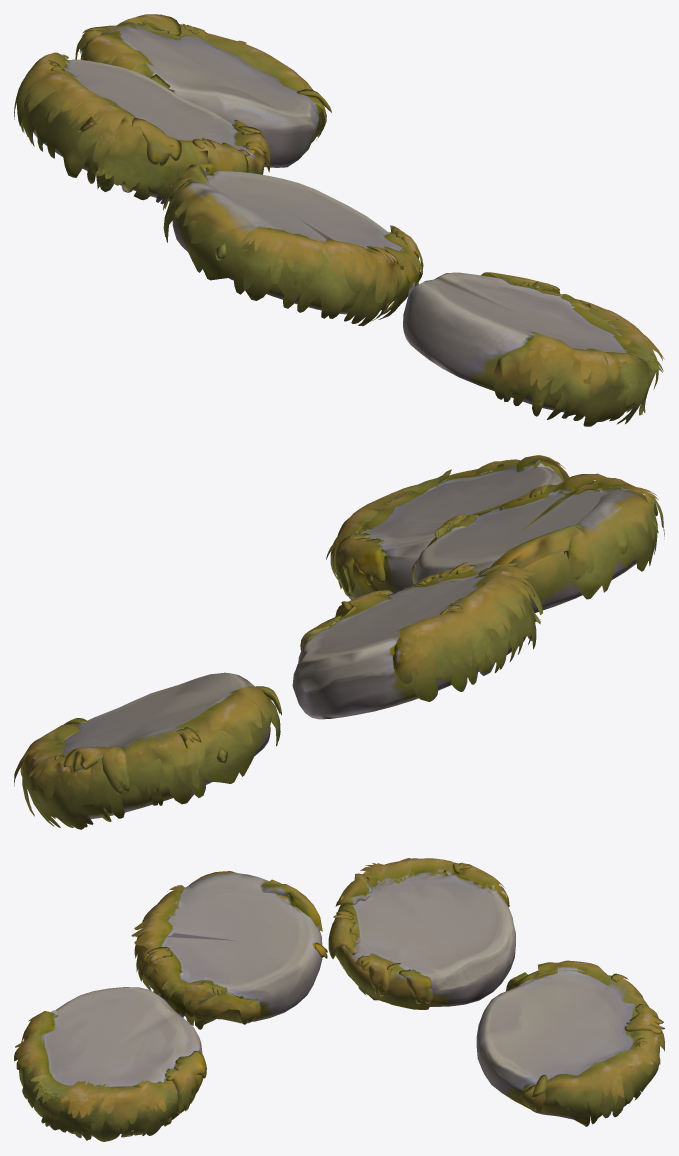
3 renders of one model, top to bottom at view 1: azimuth 30°, elevation 25°; view 2: azimuth 150°, elevation 25°; view 3: azimuth 270°, elevation 25°, orthographic. The views are drawn at different scales.
Parts seen in each view (by area): view 1: tripo_node_e6ccb213; view 2: tripo_node_e6ccb213; view 3: tripo_node_e6ccb213.
Boxes of the visible parts, left/top/right/bottom form: tripo_node_e6ccb213: left=14, top=14, right=664, bottom=426; tripo_node_e6ccb213: left=14, top=455, right=664, bottom=829; tripo_node_e6ccb213: left=14, top=858, right=664, bottom=1141.
Bounding box in the file's own units: 0.4985 × 0.2886 × 0.9995.
Materials: 1 (1 with a texture image).
